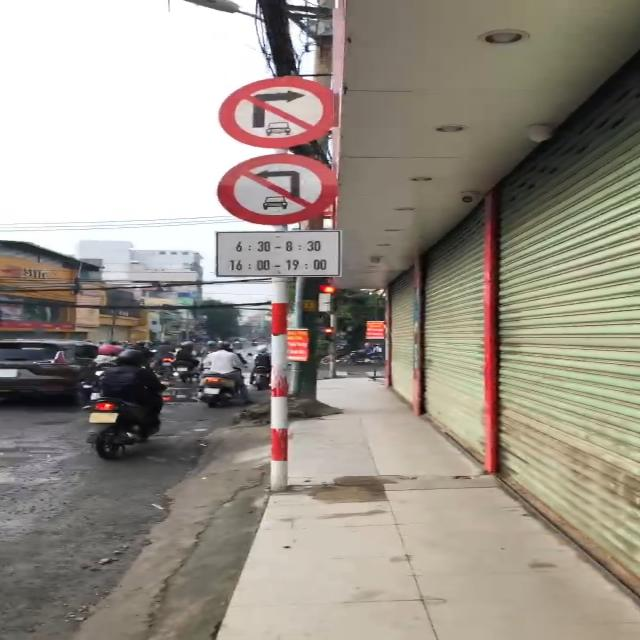Bien bao cam xe o to re phai: (218, 73, 349, 150)
Bien bao cam xe o to re trai: (214, 152, 355, 226)
